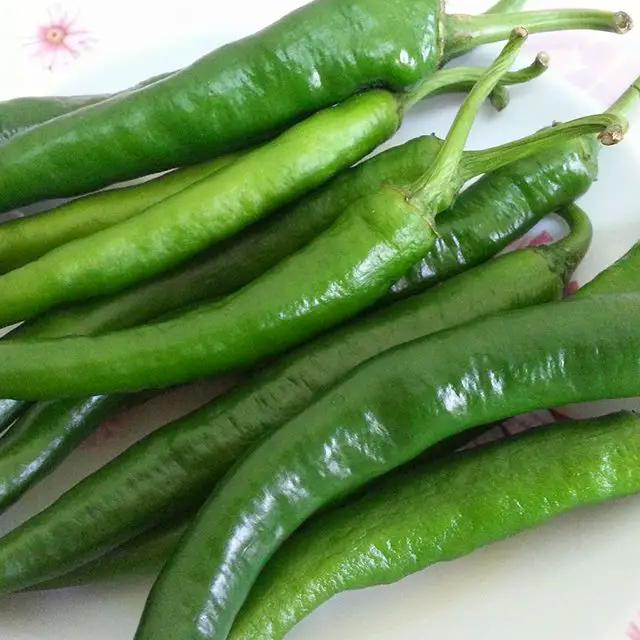chili_pepper: (34, 244, 568, 576), (134, 292, 640, 640), (0, 89, 402, 328), (227, 412, 640, 640), (0, 0, 444, 211), (0, 188, 436, 400)
